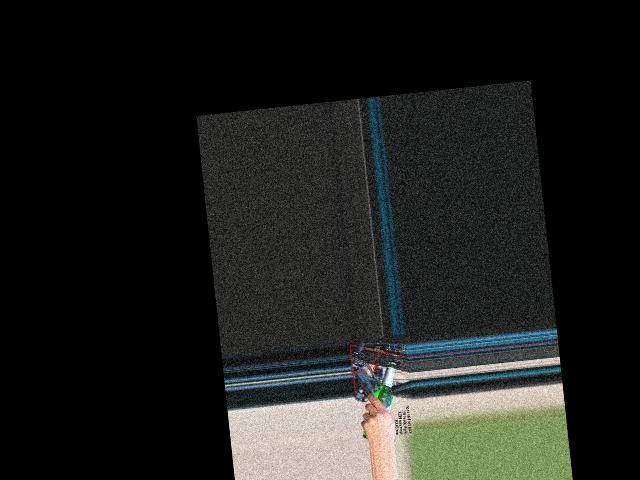beer: (354, 360, 403, 438)
